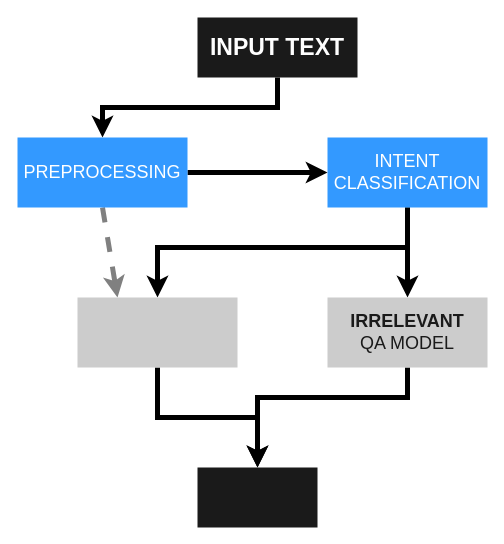
Image size: 504x544. Some labels were removed from this diagram. The shapes that lost their labels are listed below. From the top down, each one's box as (x1, y1, x2, y2) in pixels, then its label:
(77, 297, 237, 367): THEORY QA MODEL
(197, 467, 317, 527): ANSWER
